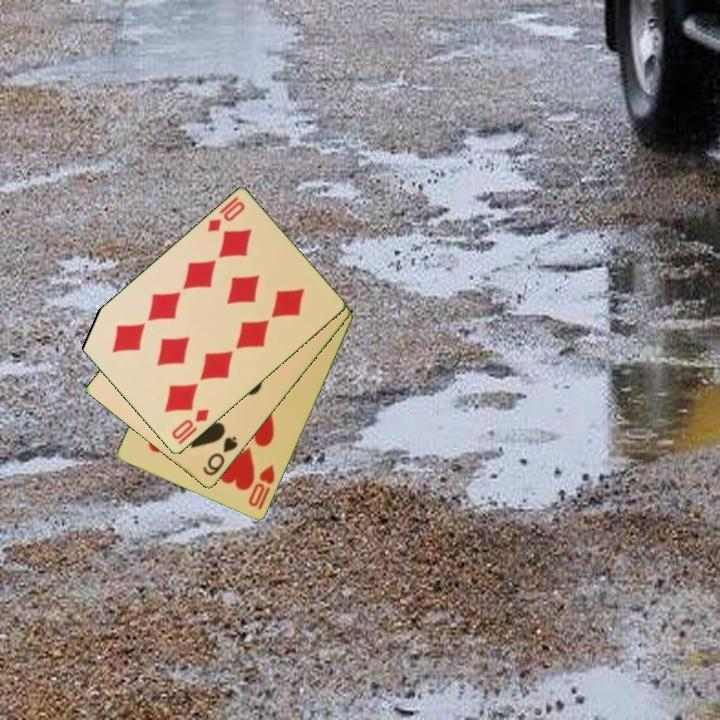10d: (204, 193, 248, 236), (168, 406, 212, 443)
10h: (245, 461, 278, 510)
6s: (199, 433, 241, 479)
